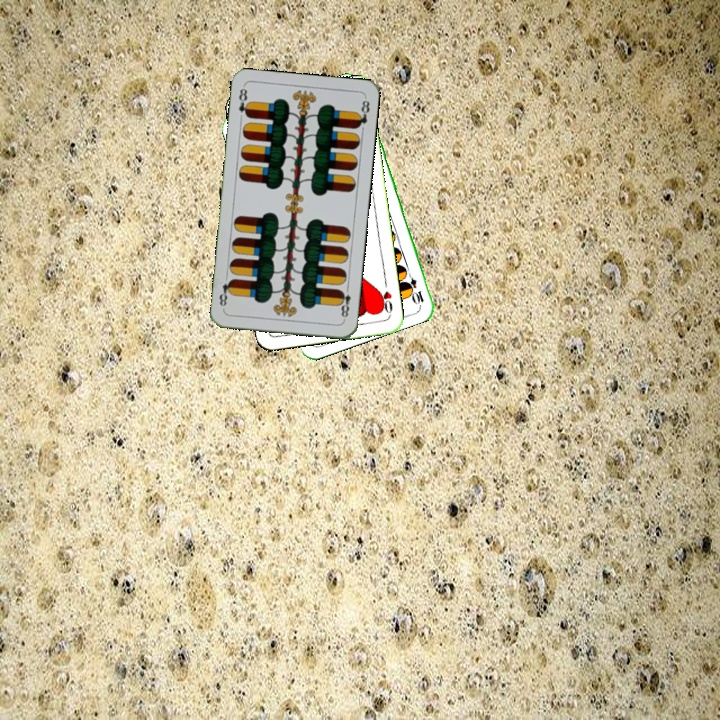E10: (403, 267, 427, 306)
E8: (335, 282, 353, 323), (235, 84, 253, 120)
HO: (375, 277, 395, 317)
